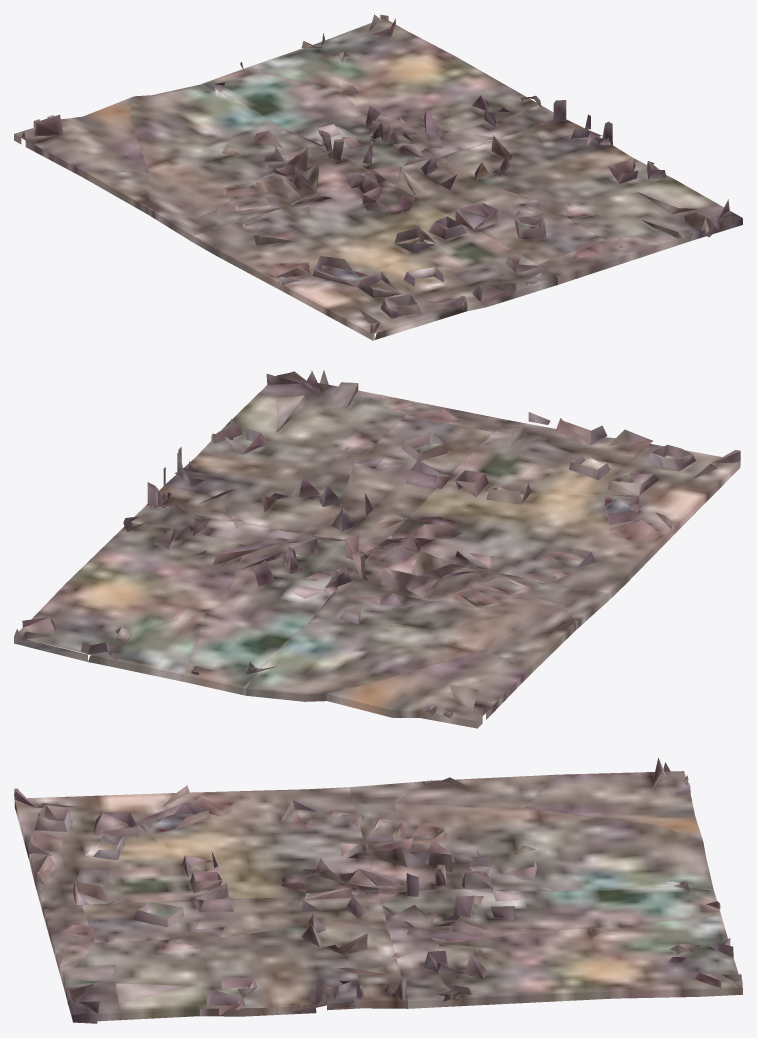
3 renders of one model, top to bottom at view 1: azimuth 30°, elevation 25°; view 2: azimuth 150°, elevation 25°; view 3: azimuth 270°, elevation 25°, orthographic. The views are drawn at different scales.
Parts seen in each view (by area): view 1: Mesh_0; view 2: Mesh_0; view 3: Mesh_0.
Part boxes in pixels (<box>): Mesh_0: <box>14,14,742,340</box>; Mesh_0: <box>14,370,740,728</box>; Mesh_0: <box>14,758,742,1023</box>.
Size of the model in its own units: 1066 by 88.9 by 1319.
1 material, 1 textured.
